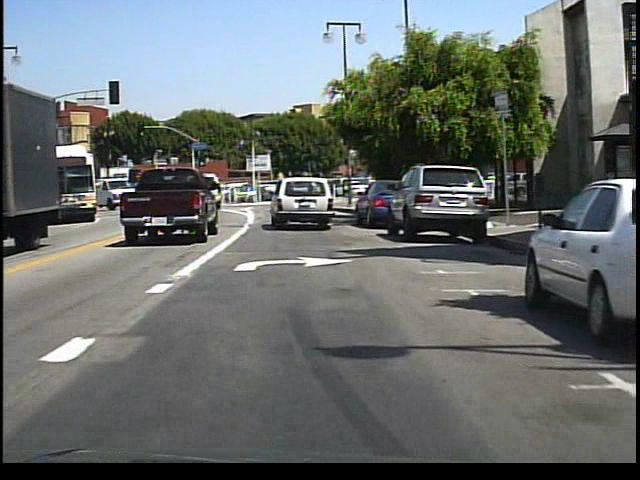person: (338, 178, 350, 205)
